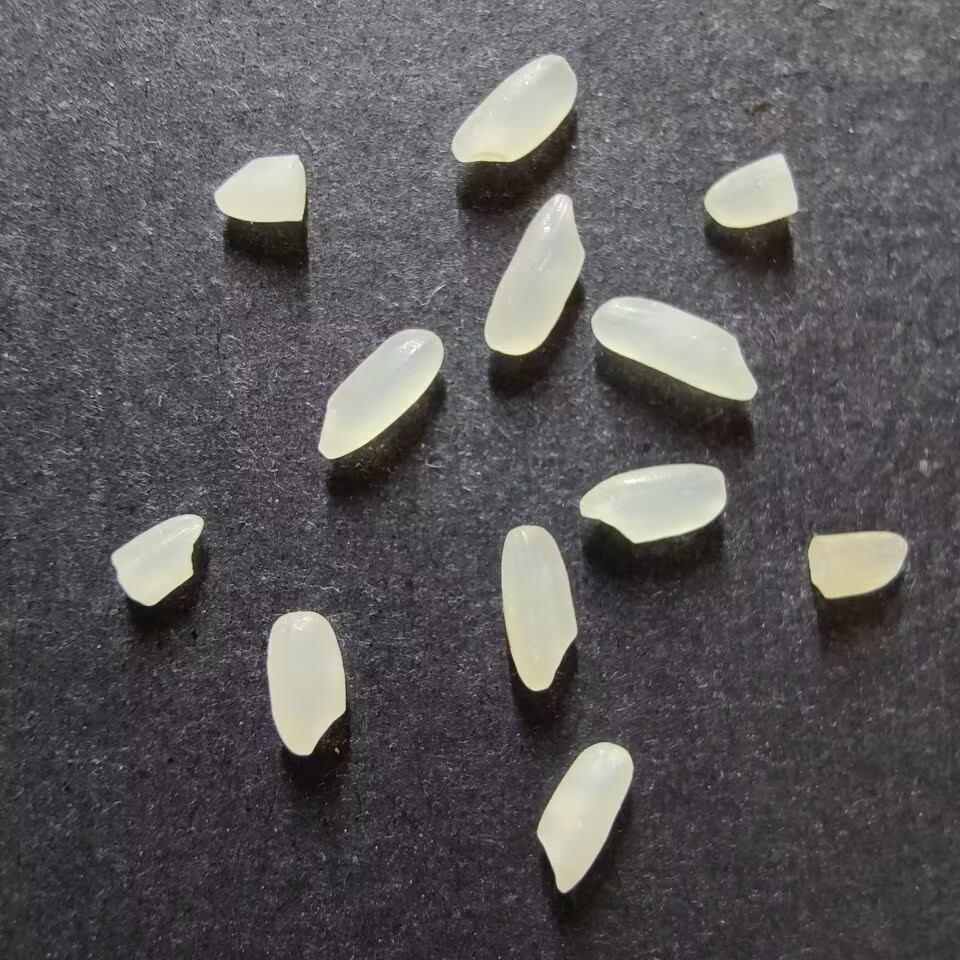broken: (110, 513, 204, 607), (703, 153, 798, 228), (807, 531, 908, 599), (213, 154, 306, 223)
rice: (589, 295, 759, 401), (316, 328, 444, 459), (483, 193, 585, 356), (535, 741, 634, 894), (450, 54, 577, 165), (499, 524, 578, 692), (265, 610, 347, 756), (578, 463, 727, 543)
